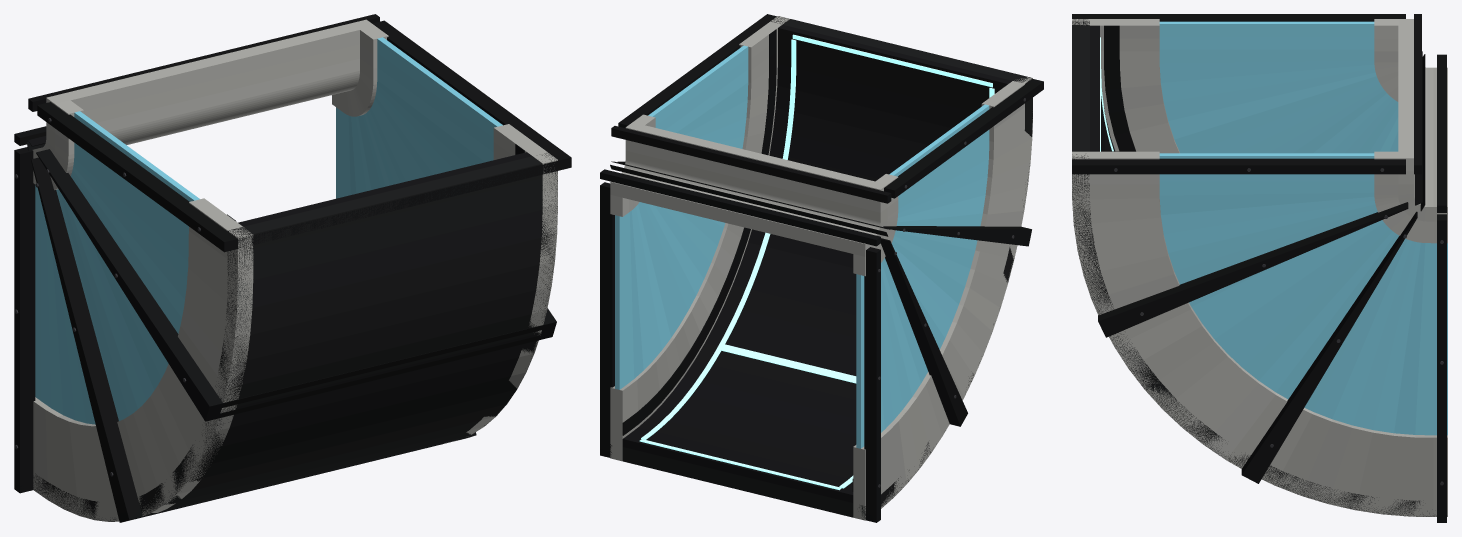
File: chute_adv_v_turn.glb
The picture shows the model from 3 angles, left to right: view 1: azimuth 30°, elevation 25°; view 2: azimuth 150°, elevation 25°; view 3: azimuth 270°, elevation 25°; orthographic projection. The views are drawn at different scales.
Parts seen in each view (by area): view 1: Frame; view 2: Frame, Power; view 3: Frame.
Part boxes in pixels (x1,y1,x2,y2): Frame: (14, 14, 571, 522); Frame: (600, 14, 1043, 522); Power: (639, 34, 994, 490); Frame: (1072, 14, 1447, 522).
Bounding box in the file's own units: 1.81 × 1.99 × 1.89.
